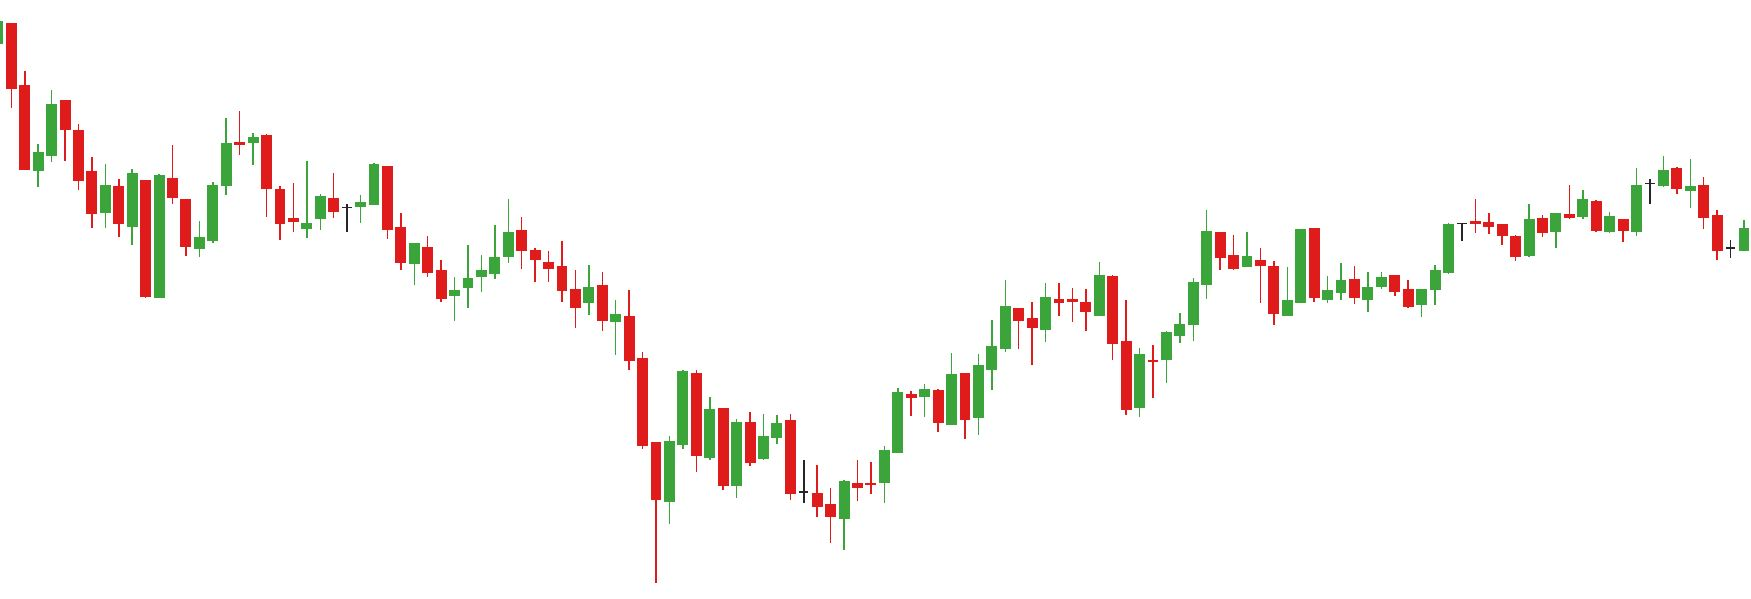buy: (1025, 295, 1151, 422)
sell: (164, 102, 277, 210)
